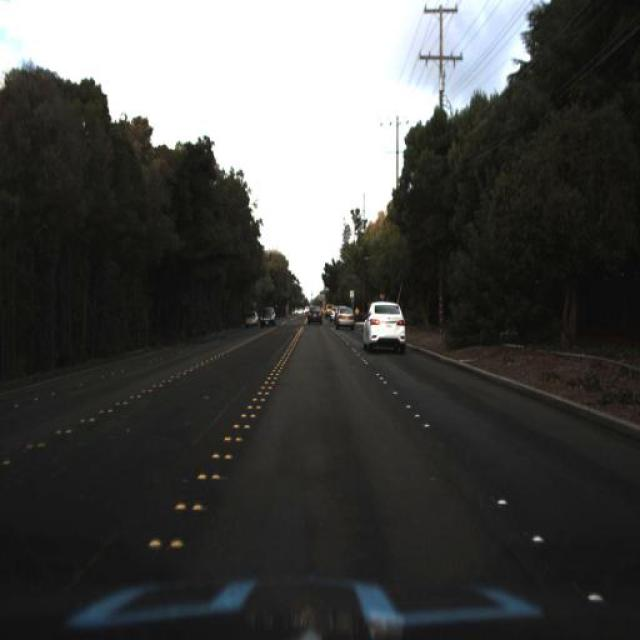car: (360, 296, 416, 356), (333, 298, 353, 332), (257, 302, 278, 331), (239, 305, 260, 331), (307, 302, 327, 326), (262, 307, 278, 331), (246, 304, 260, 326)
